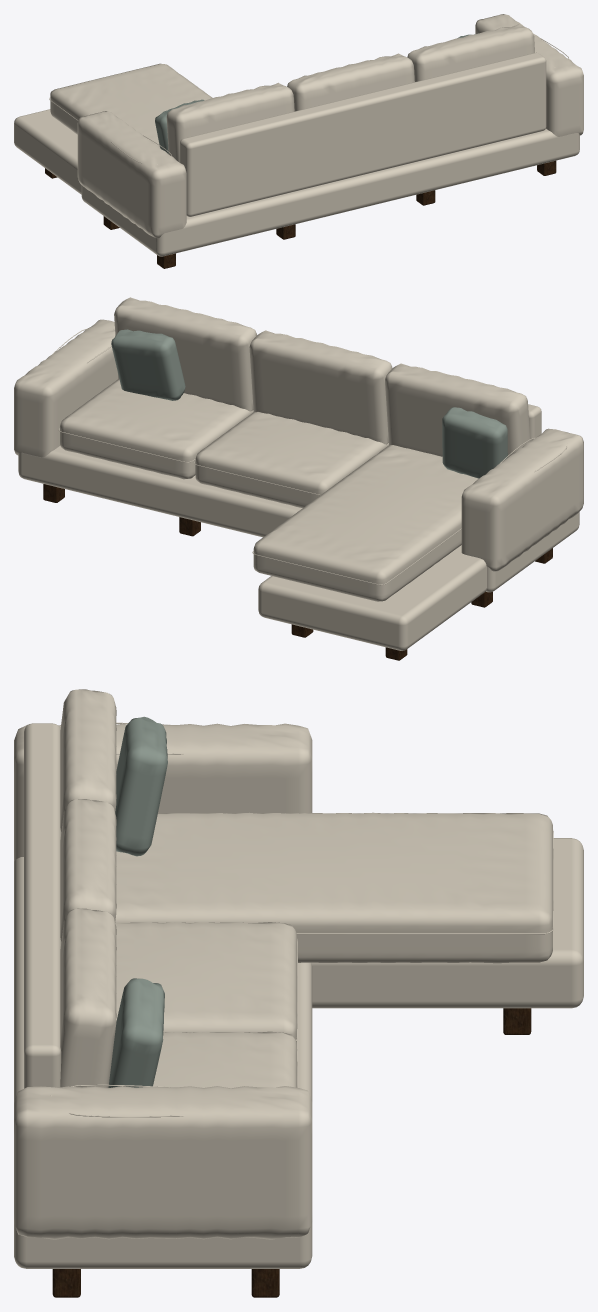
File: studio-l-sofa-left.glb
3 renders of one model, top to bottom at view 1: azimuth 30°, elevation 25°; view 2: azimuth 150°, elevation 25°; view 3: azimuth 270°, elevation 25°, orthographic. The views are drawn at different scales.
Visible parts, largest first — view 1: linen_surfaces, wood_surfaces, sage_surfaces; view 2: linen_surfaces, sage_surfaces, wood_surfaces; view 3: linen_surfaces, sage_surfaces, wood_surfaces.
Boxes of the visible parts, x1,y1,x2,y2 form: linen_surfaces: [14, 14, 583, 256]; wood_surfaces: [45, 160, 556, 268]; sage_surfaces: [155, 33, 478, 153]; linen_surfaces: [14, 297, 583, 650]; sage_surfaces: [111, 329, 507, 478]; wood_surfaces: [43, 484, 552, 660]; linen_surfaces: [14, 689, 583, 1268]; sage_surfaces: [108, 716, 167, 1087]; wood_surfaces: [52, 1008, 531, 1297].
Size of the model in its own units: 3 by 0.9804 by 1.84.
3 materials, 1 textured.
